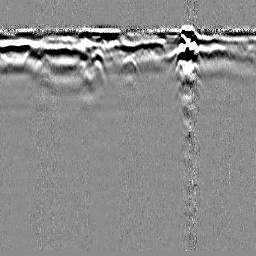cavity: (118, 55, 140, 75)
